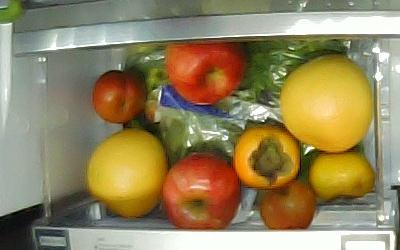apple: (164, 152, 241, 231), (165, 42, 248, 105)
grapefruit: (280, 54, 373, 153), (88, 128, 166, 219)
persimmon: (233, 124, 301, 189), (308, 150, 375, 204)
prune: (93, 70, 147, 124), (260, 178, 315, 229)
